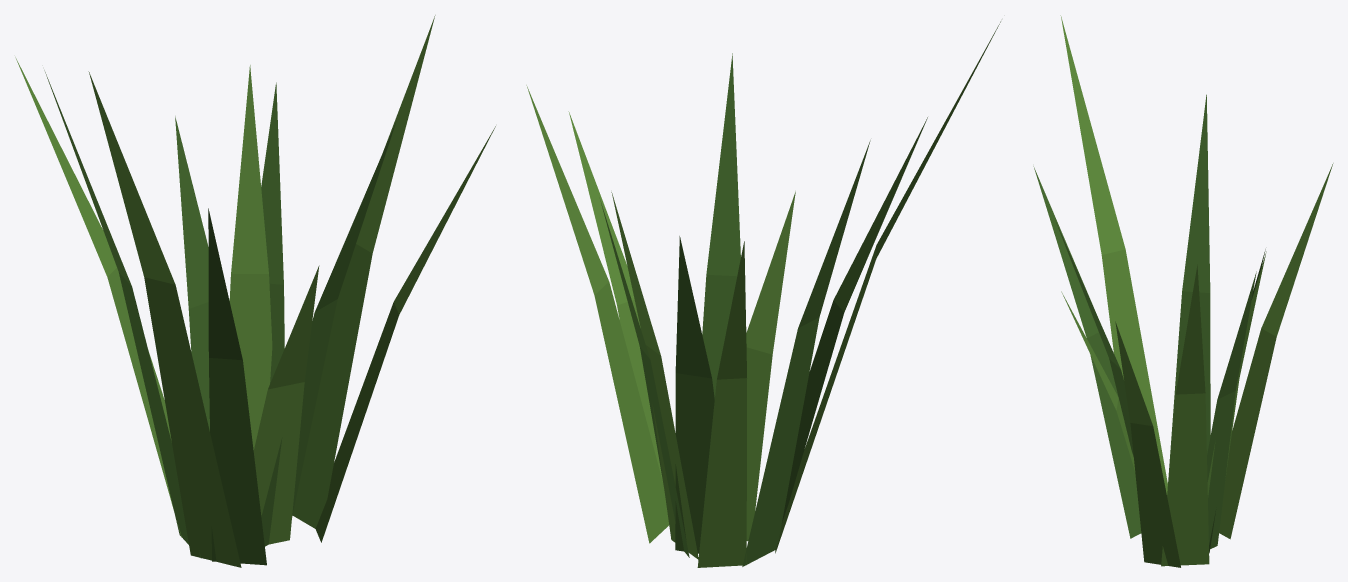
3 views of the same model, side by side, from view 1: azimuth 30°, elevation 25°; view 2: azimuth 150°, elevation 25°; view 3: azimuth 270°, elevation 25° (orthographic). The views are drawn at different scales.
Visible parts, largest first — view 1: 草_05; view 2: 草_05; view 3: 草_05.
Boxes of the visible parts, x1,y1,x2,y2 form: 草_05: (15, 15, 495, 567); 草_05: (526, 21, 1000, 567); 草_05: (1033, 15, 1333, 567).
Bounding box in the file's own units: 0.5628 × 0.7053 × 0.4352.
